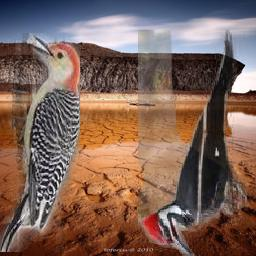Woodpecker: (139, 30, 248, 256), (0, 34, 80, 253)
